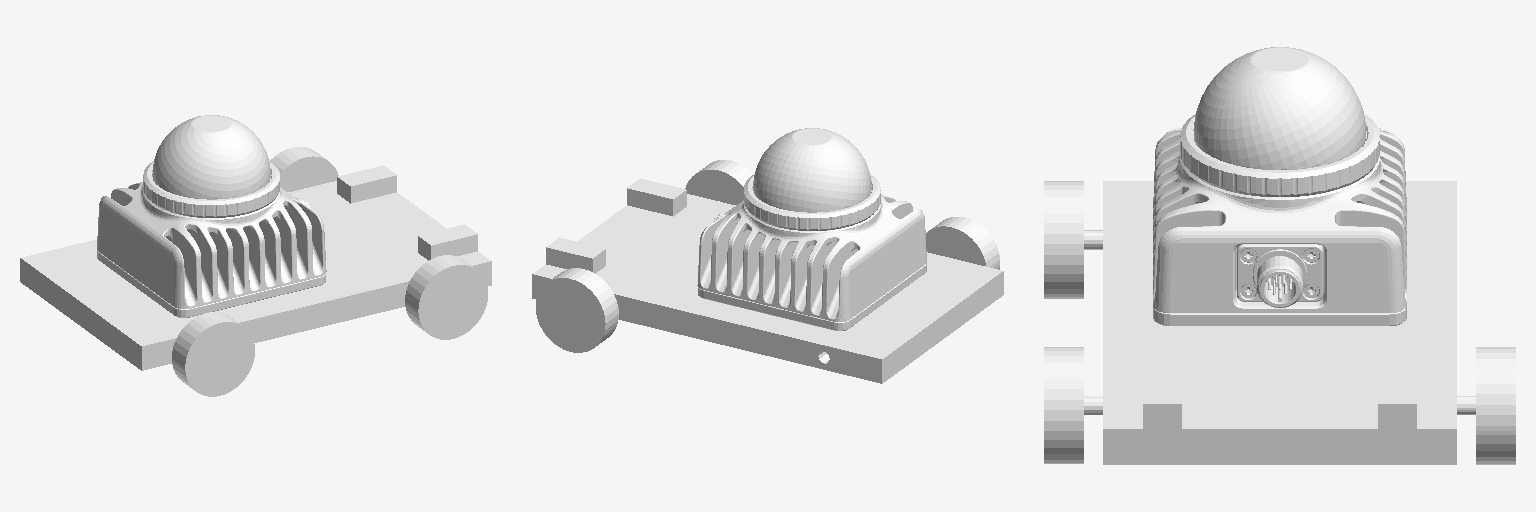
The robot description file, URDF, robot "slam_car":
<?xml version="1.0" ?>
<!-- This URDF was automatically created by SolidWorks to URDF Exporter! Originally created by Stephen Brawner (brawner@gmail.com) 
     Commit Version: 1.6.0-4-g7f85cfe  Build Version: 1.6.7995.38578
     For more information, please see http://wiki.ros.org/sw_urdf_exporter -->
<robot
  name="slam_car">
  <link name="base_footprint"/>

  <joint name="base_footprint_joint" type="fixed">
      <origin xyz="0 0 0.001" rpy="0 0 0" />
      <parent link="base_footprint"/>
      <child link="base_link" />
  </joint>
  <link
    name="base_link">
    <inertial>
      <origin
        xyz="-0.00527433135844615 -0.045 0.00686759636192835"
        rpy="0 0 0" />
      <mass
        value="0.13617029881095" />
      <inertia
        ixx="9.30040649361772E-05"
        ixy="-6.06049330100587E-21"
        ixz="-1.51918864165113E-06"
        iyy="0.000262148841288"
        iyz="6.30331294151636E-21"
        izz="0.000352490055892557" />
    </inertial>
    <visual>
      <origin
        xyz="0 0 0"
        rpy="0 0 0" />
      <geometry>
        <mesh
          filename="package://slam_car/meshes/base_link.STL" />
      </geometry>
      <material
        name="">
        <color
          rgba="1 1 1 1" />
      </material>
    </visual>
    <collision>
      <origin
        xyz="0 0 0"
        rpy="0 0 0" />
      <geometry>
        <mesh
          filename="package://slam_car/meshes/base_link.STL" />
      </geometry>
    </collision>
  </link>
  <link
    name="lf_w">
    <inertial>
      <origin
        xyz="-6.73072708679001E-16 -2.16840434497101E-17 -0.0242105263157896"
        rpy="0 0 0" />
      <mass
        value="0.00746128255227575" />
      <inertia
        ixx="5.5392315369987E-07"
        ixy="-2.76044742654947E-39"
        ixz="1.58714800464317E-21"
        iyy="5.5392315369987E-07"
        iyz="0"
        izz="7.96442825070225E-07" />
    </inertial>
    <visual>
      <origin
        xyz="0 0 0"
        rpy="0 0 0" />
      <geometry>
        <mesh
          filename="package://slam_car/meshes/lf_w.STL" />
      </geometry>
      <material
        name="">
        <color
          rgba="1 1 1 1" />
      </material>
    </visual>
    <collision>
      <origin
        xyz="0 0 0"
        rpy="0 0 0" />
      <geometry>
        <mesh
          filename="package://slam_car/meshes/lf_w.STL" />
      </geometry>
    </collision>
  </link>
  <joint
    name="lf_j"
    type="continuous">
    <origin
      xyz="-0.0566191120777502 -0.0750000000000003 0.00669432926045225"
      rpy="1.5707963267949 0 3.14159265358979" />
    <parent
      link="base_link" />
    <child
      link="lf_w" />
    <axis
      xyz="0 0 1" />
  </joint>
  <link
    name="lb_w">
    <inertial>
      <origin
        xyz="-6.38378239159465E-16 1.47451495458029E-17 -0.0242105263157896"
        rpy="0 0 0" />
      <mass
        value="0.00746128255227575" />
      <inertia
        ixx="5.53923153699869E-07"
        ixy="4.09513857735467E-39"
        ixz="1.46564131977541E-21"
        iyy="5.53923153699869E-07"
        iyz="1.14794370197489E-38"
        izz="7.96442825070224E-07" />
    </inertial>
    <visual>
      <origin
        xyz="0 0 0"
        rpy="0 0 0" />
      <geometry>
        <mesh
          filename="package://slam_car/meshes/lb_w.STL" />
      </geometry>
      <material
        name="">
        <color
          rgba="1 1 1 1" />
      </material>
    </visual>
    <collision>
      <origin
        xyz="0 0 0"
        rpy="0 0 0" />
      <geometry>
        <mesh
          filename="package://slam_car/meshes/lb_w.STL" />
      </geometry>
    </collision>
  </link>
  <joint
    name="lb_j"
    type="continuous">
    <origin
      xyz="0.0433808879222498 -0.0749999999999997 0.00669432926045225"
      rpy="1.5707963267949 0 3.14159265358979" />
    <parent
      link="base_link" />
    <child
      link="lb_w" />
    <axis
      xyz="0 0 1" />
  </joint>
  <link
    name="rf_w">
    <inertial>
      <origin
        xyz="0 -8.67361737988404E-19 -0.00921052631578944"
        rpy="0 0 0" />
      <mass
        value="0.00746128255227576" />
      <inertia
        ixx="5.5392315369987E-07"
        ixy="-3.13013882834049E-39"
        ixz="-1.50647647604789E-22"
        iyy="5.5392315369987E-07"
        iyz="-4.23592720358353E-40"
        izz="7.96442825070225E-07" />
    </inertial>
    <visual>
      <origin
        xyz="0 0 0"
        rpy="0 0 0" />
      <geometry>
        <mesh
          filename="package://slam_car/meshes/rf_w.STL" />
      </geometry>
      <material
        name="">
        <color
          rgba="1 1 1 1" />
      </material>
    </visual>
    <collision>
      <origin
        xyz="0 0 0"
        rpy="0 0 0" />
      <geometry>
        <mesh
          filename="package://slam_car/meshes/rf_w.STL" />
      </geometry>
    </collision>
  </link>
  <joint
    name="rf_j"
    type="continuous">
    <origin
      xyz="-0.0566191120777502 0 0.00669432926045225"
      rpy="1.5707963267949 0 0" />
    <parent
      link="base_link" />
    <child
      link="rf_w" />
    <axis
      xyz="0 0 1" />
  </joint>
  <link
    name="rb_w">
    <inertial>
      <origin
        xyz="0 -8.6736E-19 -0.0092105"
        rpy="0 0 0" />
      <mass
        value="0.0074613" />
      <inertia
        ixx="5.5392E-07"
        ixy="-3.1301E-39"
        ixz="-1.5065E-22"
        iyy="5.5392E-07"
        iyz="-4.2359E-40"
        izz="7.9644E-07" />
    </inertial>
    <visual>
      <origin
        xyz="0 0 0"
        rpy="0 0 0" />
      <geometry>
        <mesh
          filename="package://slam_car/meshes/rb_w.STL" />
      </geometry>
      <material
        name="">
        <color
          rgba="1 1 1 1" />
      </material>
    </visual>
    <collision>
      <origin
        xyz="0 0 0"
        rpy="0 0 0" />
      <geometry>
        <mesh
          filename="package://slam_car/meshes/rb_w.STL" />
      </geometry>
    </collision>
  </link>
  <joint
    name="rb_j"
    type="continuous">
    <origin
      xyz="0.043381 0 0.0066943"
      rpy="1.5708 0 0" />
    <parent
      link="base_link" />
    <child
      link="rb_w" />
    <axis
      xyz="0 0 1" />
  </joint>
  <link
    name="LiDAR">
    <inertial>
      <origin
        xyz="0 0 0"
        rpy="0 0 0" />
      <mass
        value="0" />
      <inertia
        ixx="0"
        ixy="0"
        ixz="0"
        iyy="0"
        iyz="0"
        izz="0" />
    </inertial>
    <visual>
      <origin
        xyz="0 0 0"
        rpy="0 0 0" />
      <geometry>
        <mesh
          filename="package://slam_car/meshes/LiDAR.STL" />
      </geometry>
      <material
        name="">
        <color
          rgba="1 1 1 1" />
      </material>
    </visual>
    <collision>
      <origin
        xyz="0 0 0"
        rpy="0 0 0" />
      <geometry>
        <mesh
          filename="package://slam_car/meshes/LiDAR.STL" />
      </geometry>
    </collision>
  </link>
  <joint
    name="LiDAR_j"
    type="fixed">
    <origin
      xyz="-0.025619 -0.045 0.037611"
      rpy="1.5708 0 0" />
    <parent
      link="base_link" />
    <child
      link="LiDAR" />
    <axis
      xyz="0 0 0" />
  </joint>
</robot>

--- Render facts (derived) ---
Views: 3 orthographic renders of the robot side by side, from view 1: azimuth 30°, elevation 25°; view 2: azimuth 150°, elevation 25°; view 3: azimuth 270°, elevation 25°.
Model slam_car with 7 links and 6 joints (4 continuous, 2 fixed), rooted at base_footprint, posed all joints at 0.
Visible links, largest first — view 1: LiDAR, base_link, lb_w, lf_w, rb_w; view 2: base_link, LiDAR, rb_w, lf_w, lb_w; view 3: base_link, LiDAR, lf_w, rb_w, lb_w.
Boxes of the visible links, <box> form: LiDAR: <box>97,115,326,317</box>; base_link: <box>20,165,491,370</box>; lb_w: <box>405,255,487,339</box>; lf_w: <box>172,312,254,396</box>; rb_w: <box>270,147,338,191</box>; base_link: <box>532,178,1003,383</box>; LiDAR: <box>697,128,926,330</box>; rb_w: <box>536,268,618,352</box>; lf_w: <box>926,217,999,269</box>; lb_w: <box>685,160,753,204</box>; base_link: <box>1103,181,1456,464</box>; LiDAR: <box>1153,47,1406,325</box>; lf_w: <box>1044,181,1102,298</box>; rb_w: <box>1457,347,1515,464</box>; lb_w: <box>1044,347,1102,463</box>.
Size in the robot's own frame: 0.15 by 0.12 by 0.0801 metres.
Meshes: 6 distinct files referenced, 5 mesh visuals loaded (5 binary STL); not drawn: 1 (reference not matched to a file when rendering).
